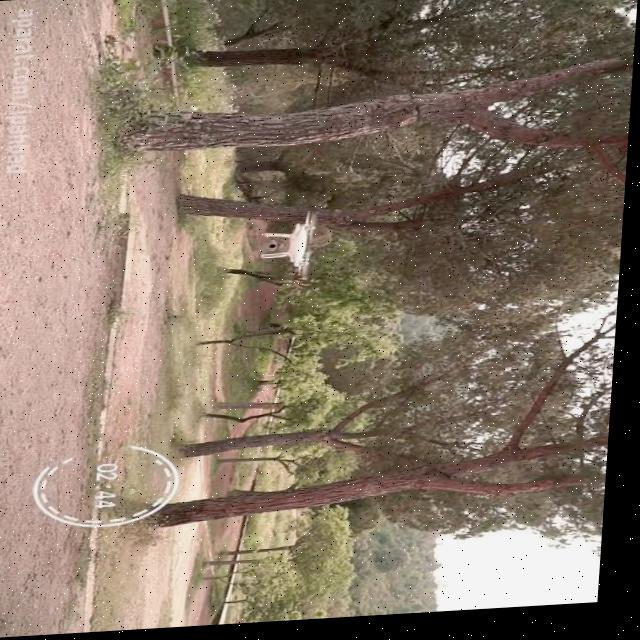drone: (262, 211, 324, 286)
